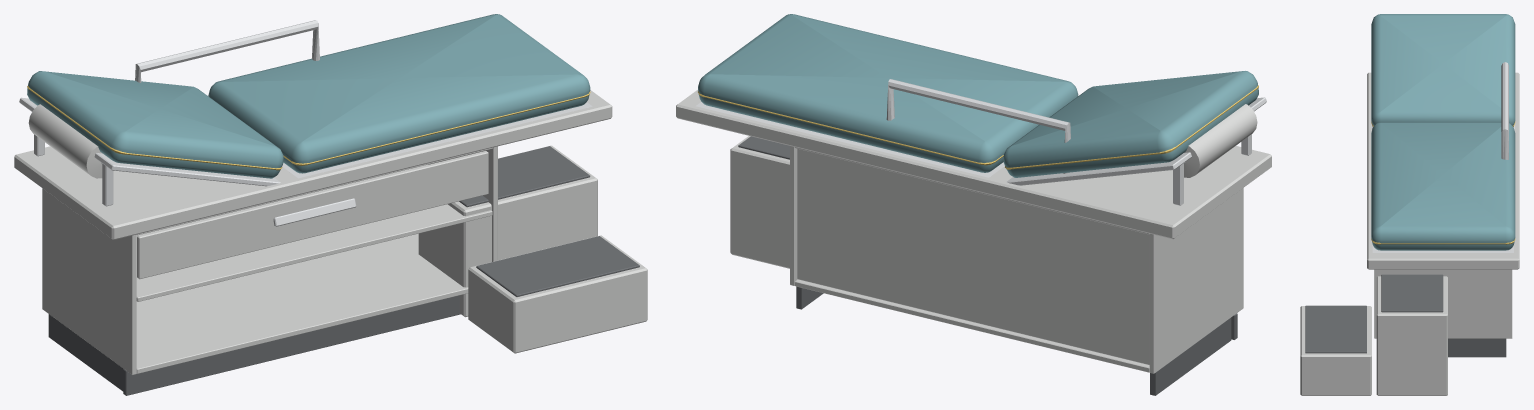
The model's file is clinic-and-veterinary-practice-examination-couch-with--20a73e55__16735.glb.
The picture shows the model from 3 angles, left to right: view 1: azimuth 30°, elevation 25°; view 2: azimuth 150°, elevation 25°; view 3: azimuth 270°, elevation 25°; orthographic projection. The views are drawn at different scales.
Visible parts, largest first — view 1: examination-couch-with-steps, drawer-1/carcass, drawer-1/metal; view 2: examination-couch-with-steps; view 3: examination-couch-with-steps.
Boxes of the visible parts, x1=… form: examination-couch-with-steps: x1=14, y1=14, x2=647, y2=395; drawer-1/carcass: x1=137, y1=151, x2=488, y2=279; drawer-1/metal: x1=273, y1=198, x2=356, y2=226; examination-couch-with-steps: x1=676, y1=14, x2=1271, y2=395; examination-couch-with-steps: x1=1300, y1=14, x2=1519, y2=395.
Bounding box in the file's own units: 1.88 × 0.9485 × 0.9199.
